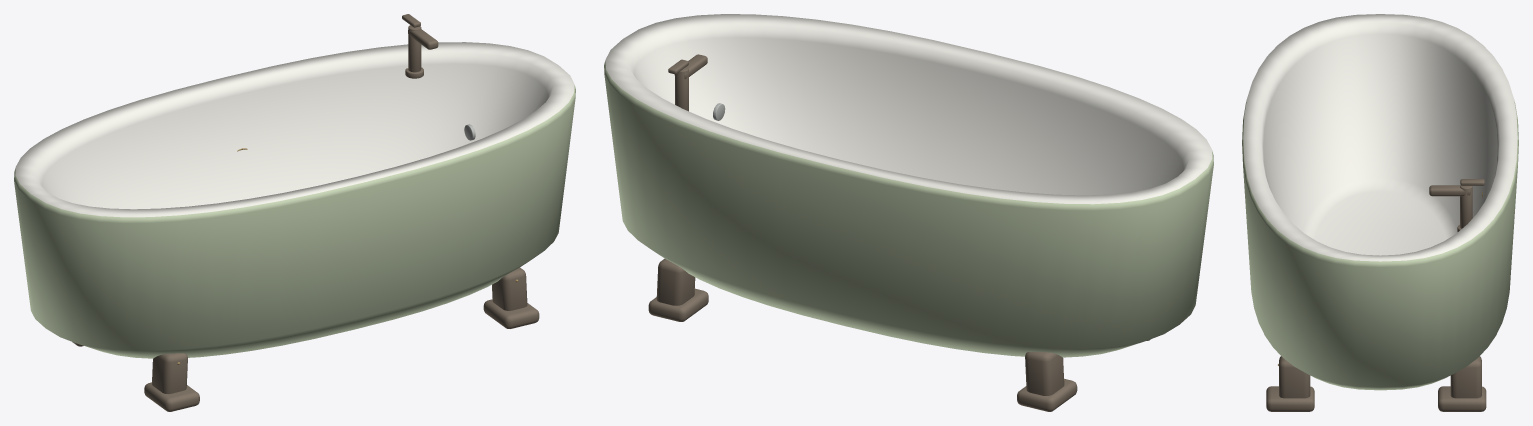
Rendered from clawfoot-bathtub.glb.
The picture shows the model from 3 angles, left to right: view 1: azimuth 30°, elevation 25°; view 2: azimuth 150°, elevation 25°; view 3: azimuth 270°, elevation 25°; orthographic projection. The views are drawn at different scales.
Parts seen in each view (by area): view 1: clawfoot-bathtub; view 2: clawfoot-bathtub; view 3: clawfoot-bathtub.
Boxes of the visible parts, <box> form: clawfoot-bathtub: <box>14,14,575,411</box>; clawfoot-bathtub: <box>604,14,1213,411</box>; clawfoot-bathtub: <box>1242,14,1518,411</box>.
Bounding box in the file's own units: 1.7 × 0.71 × 0.8.
